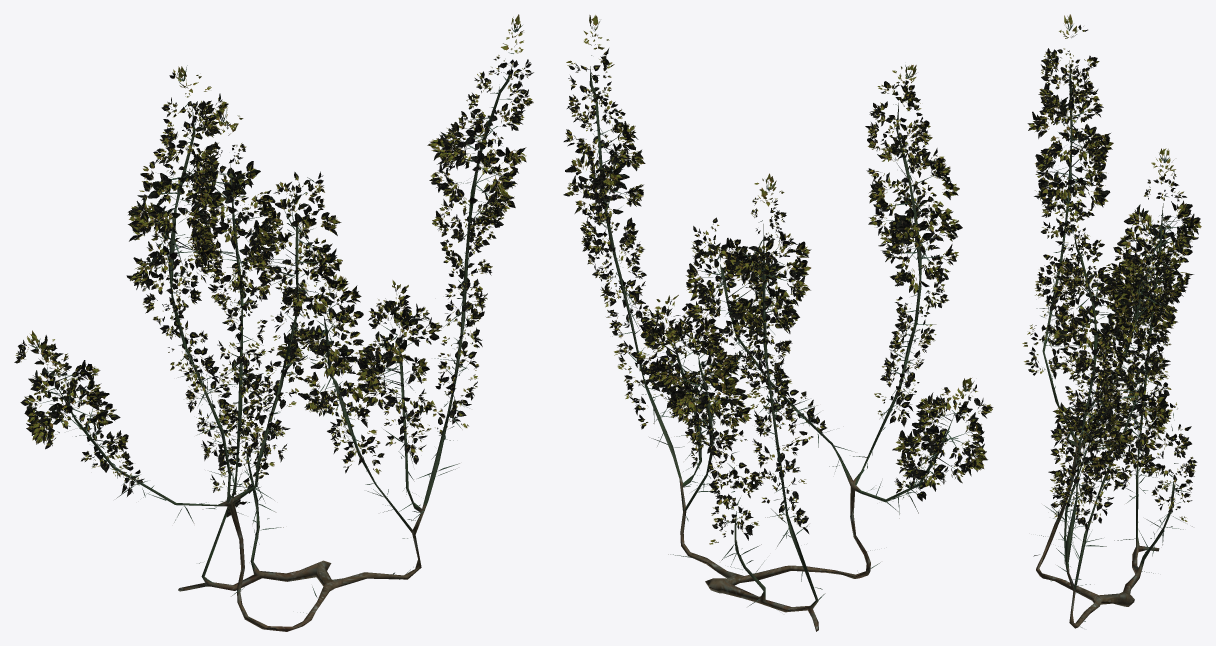
The model's file is ulex.dae.
3 renders of one model, left to right at view 1: azimuth 30°, elevation 25°; view 2: azimuth 150°, elevation 25°; view 3: azimuth 270°, elevation 25°, orthographic. The views are drawn at different scales.
Parts seen in each view (by area): view 1: Leafs.003; view 2: Leafs.003; view 3: Leafs.003.
Boxes of the visible parts, x1=… form: Leafs.003: x1=14, y1=14, x2=533, y2=631; Leafs.003: x1=563, y1=15, x2=993, y2=631; Leafs.003: x1=1022, y1=14, x2=1201, y2=628.
Size of the model in its own units: 1.19 by 0.4375 by 1.39.
5 materials, 3 textured.
